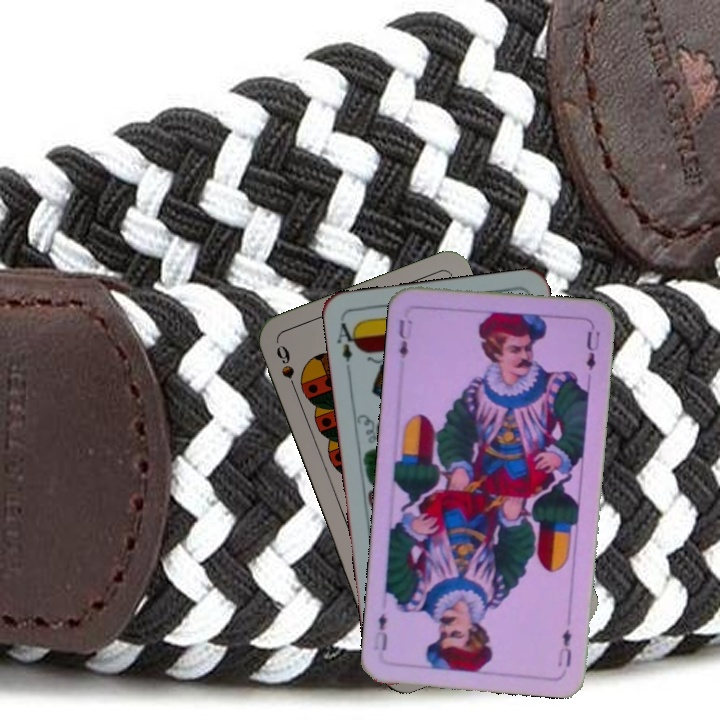EA: (333, 318, 361, 375)
EU: (553, 625, 574, 669), (394, 315, 411, 361)
S9: (272, 340, 301, 398)
